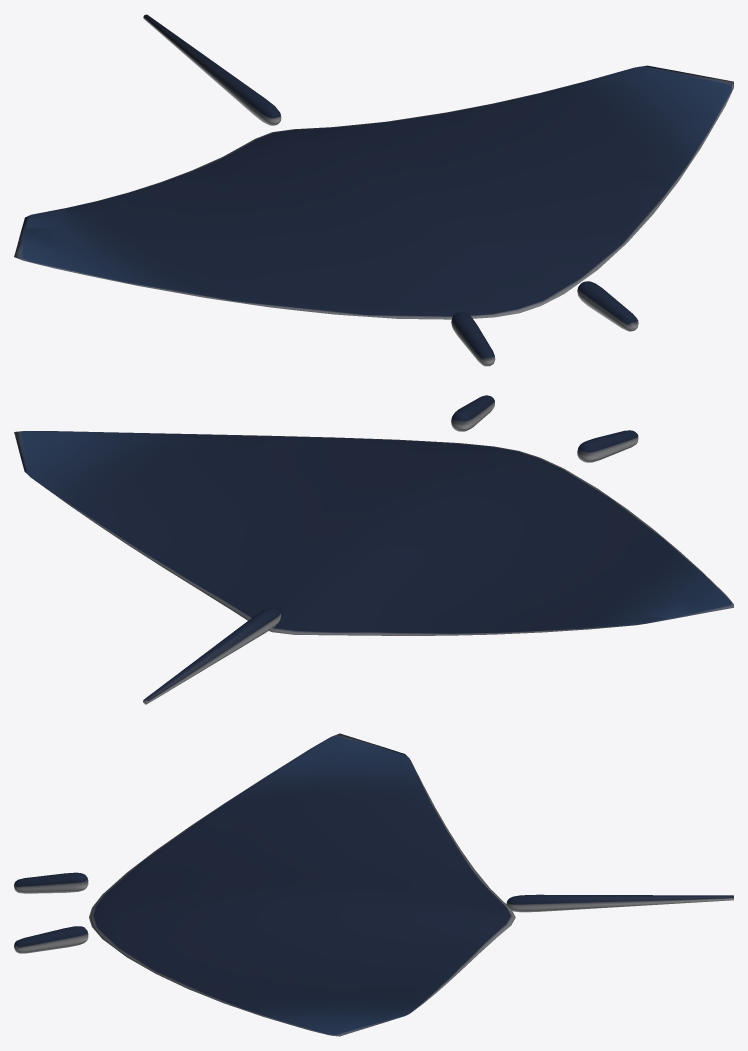
The model's file is Manta.glb.
3 views of the same model, one above another, from view 1: azimuth 30°, elevation 25°; view 2: azimuth 150°, elevation 25°; view 3: azimuth 270°, elevation 25° (orthographic). The views are drawn at different scales.
Parts seen in each view (by area): view 1: Manta; view 2: Manta; view 3: Manta.
Boxes of the visible parts, <box> form: Manta: <box>14,14,733,366</box>; Manta: <box>14,395,733,704</box>; Manta: <box>14,733,733,1036</box>.
Bounding box in the file's own units: 4.93 × 0.4278 × 4.95.
